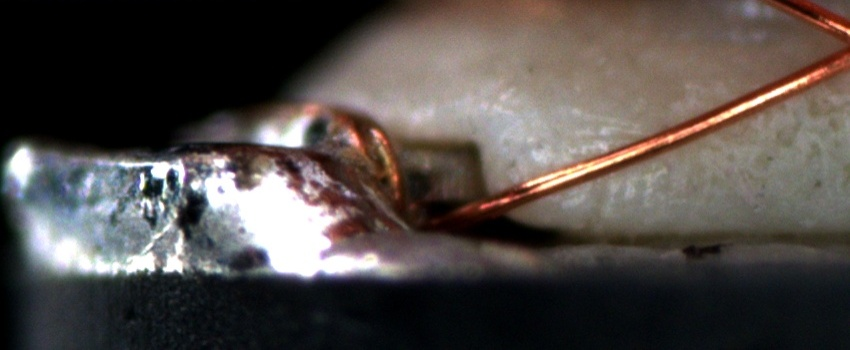DL: (561, 111, 660, 163)
TE: (295, 97, 409, 210)
